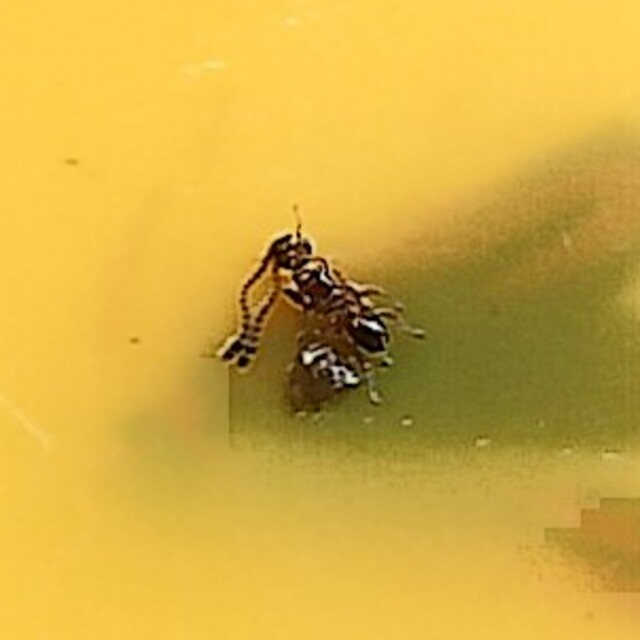Hymenoptera: (212, 215, 428, 425)
